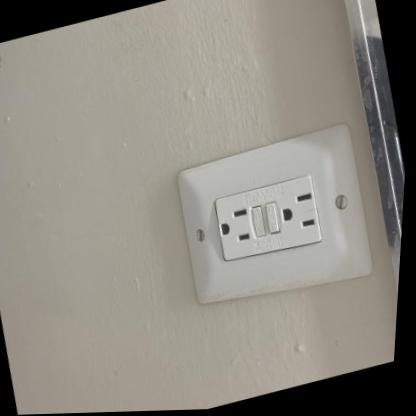OUTLET: (164, 119, 385, 314)
